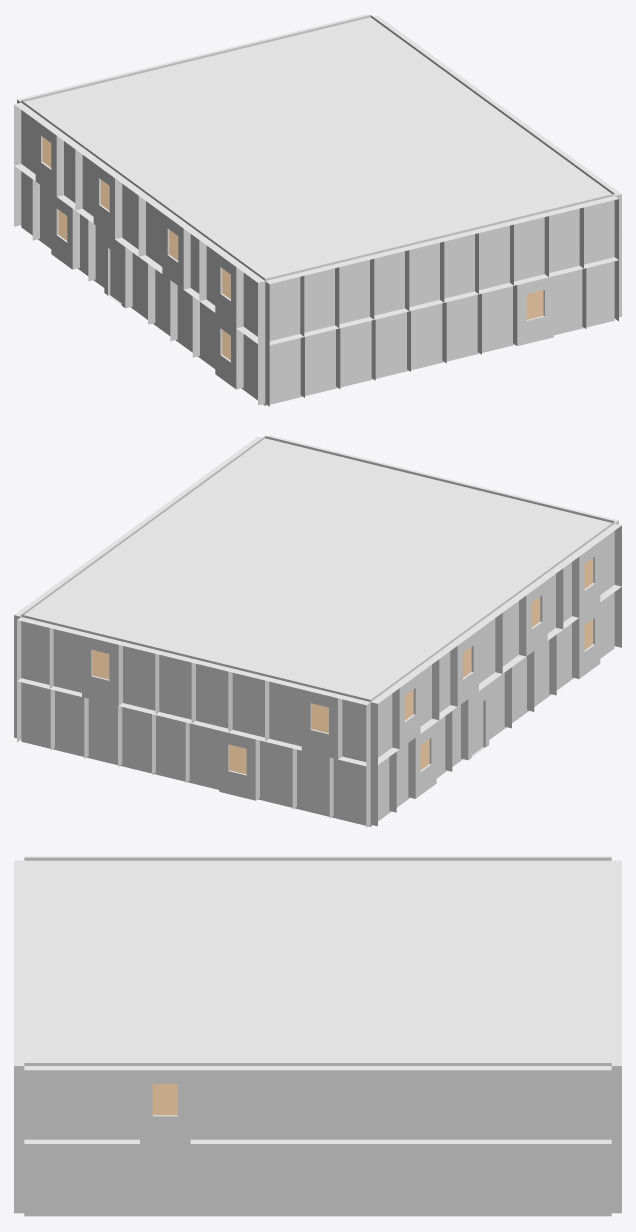
The model's file is int_banco.glb.
3 views of the same model, one above another, from view 1: azimuth 30°, elevation 25°; view 2: azimuth 150°, elevation 25°; view 3: azimuth 270°, elevation 25° (orthographic). The views are drawn at different scales.
Visible parts, largest first — view 1: INT_Banco_CEILING, INT_Banco_WALL_Near_A, INT_Banco_Shell, INT_Banco_WALL_Near_B; view 2: INT_Banco_CEILING, INT_Banco_Shell, INT_Banco_WALL_Near_B, INT_Banco_WALL_Near_A; view 3: INT_Banco_CEILING, INT_Banco_WALL_Near_B, INT_Banco_Shell, INT_Banco_WALL_Near_A.
Boxes of the visible parts, bbox=[...] form: INT_Banco_CEILING: bbox=[21, 15, 614, 280]; INT_Banco_WALL_Near_A: bbox=[265, 196, 618, 406]; INT_Banco_Shell: bbox=[14, 14, 614, 405]; INT_Banco_WALL_Near_B: bbox=[373, 15, 621, 317]; INT_Banco_CEILING: bbox=[21, 436, 614, 701]; INT_Banco_Shell: bbox=[17, 523, 621, 827]; INT_Banco_WALL_Near_B: bbox=[14, 436, 262, 738]; INT_Banco_WALL_Near_A: bbox=[268, 435, 618, 584]; INT_Banco_CEILING: bbox=[24, 857, 611, 1072]; INT_Banco_WALL_Near_B: bbox=[24, 1066, 611, 1213]; INT_Banco_Shell: bbox=[24, 856, 621, 1216]; INT_Banco_WALL_Near_A: bbox=[14, 860, 25, 1213].
Size of what is drawn, in the model's own units: 19.9 by 6.64 by 23.9.
Materials: 17 (15 with a texture image).
